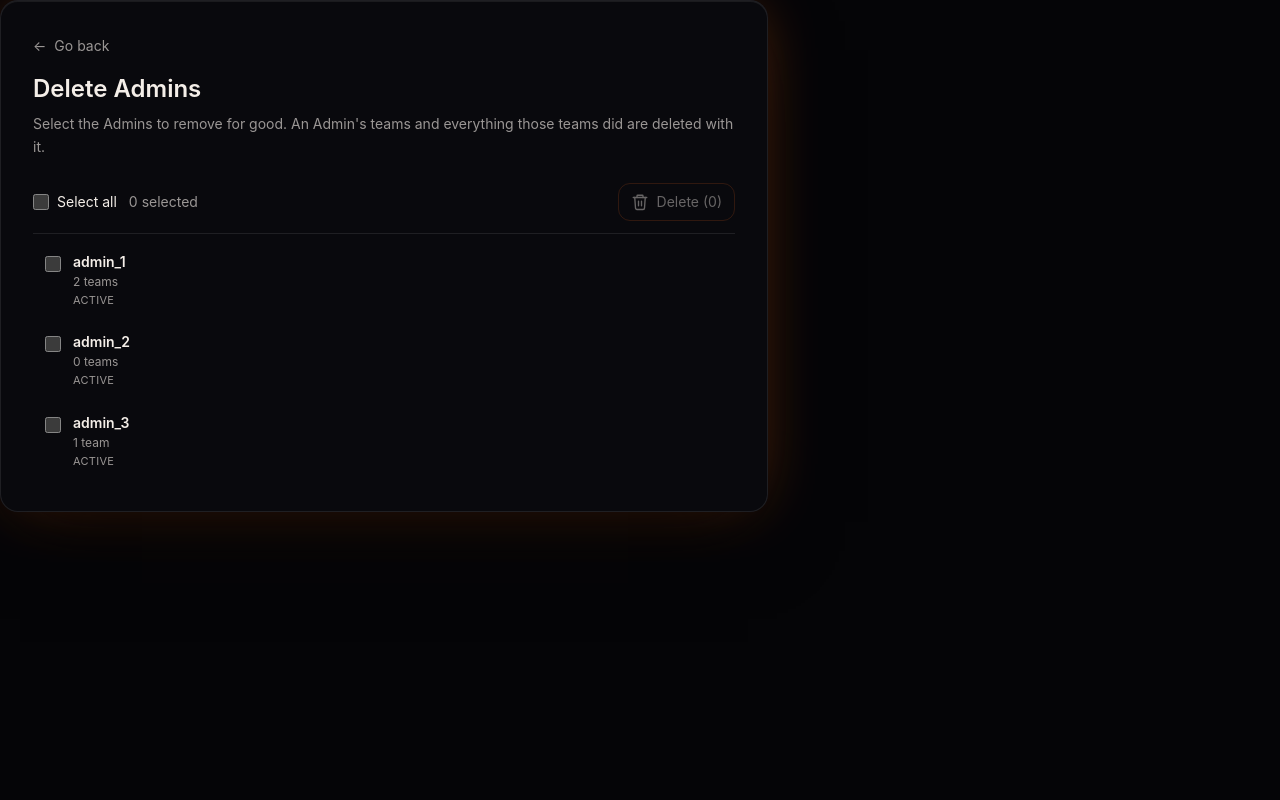
Test: <DeletionScreen kind='admins' /> › Yes sends exactly the selected ids once with an Idempotency-Key, then refreshes the list and clears the selection
Click the checkbox named "Select admin_1" at [53, 264], box 45,256 -> 61,272
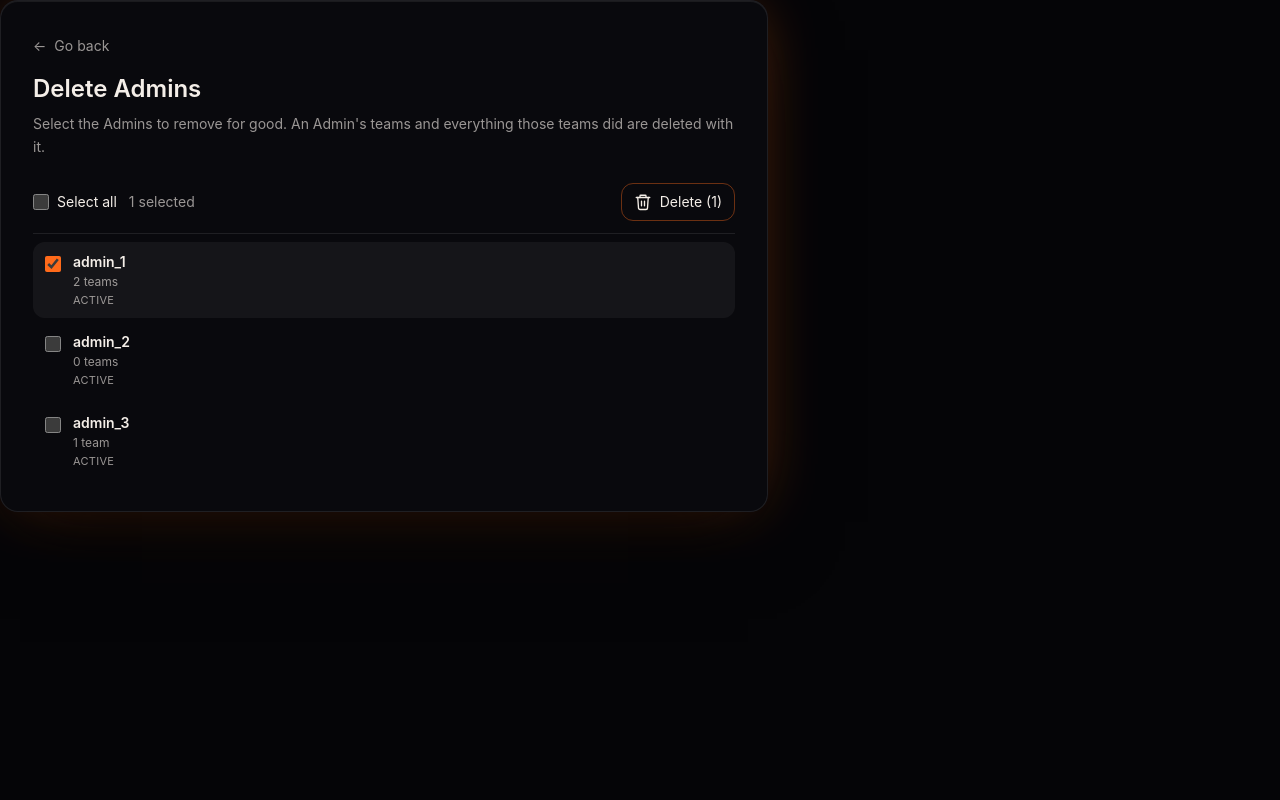
Click the checkbox named "Select admin_3" at [53, 424], box 45,416 -> 61,432
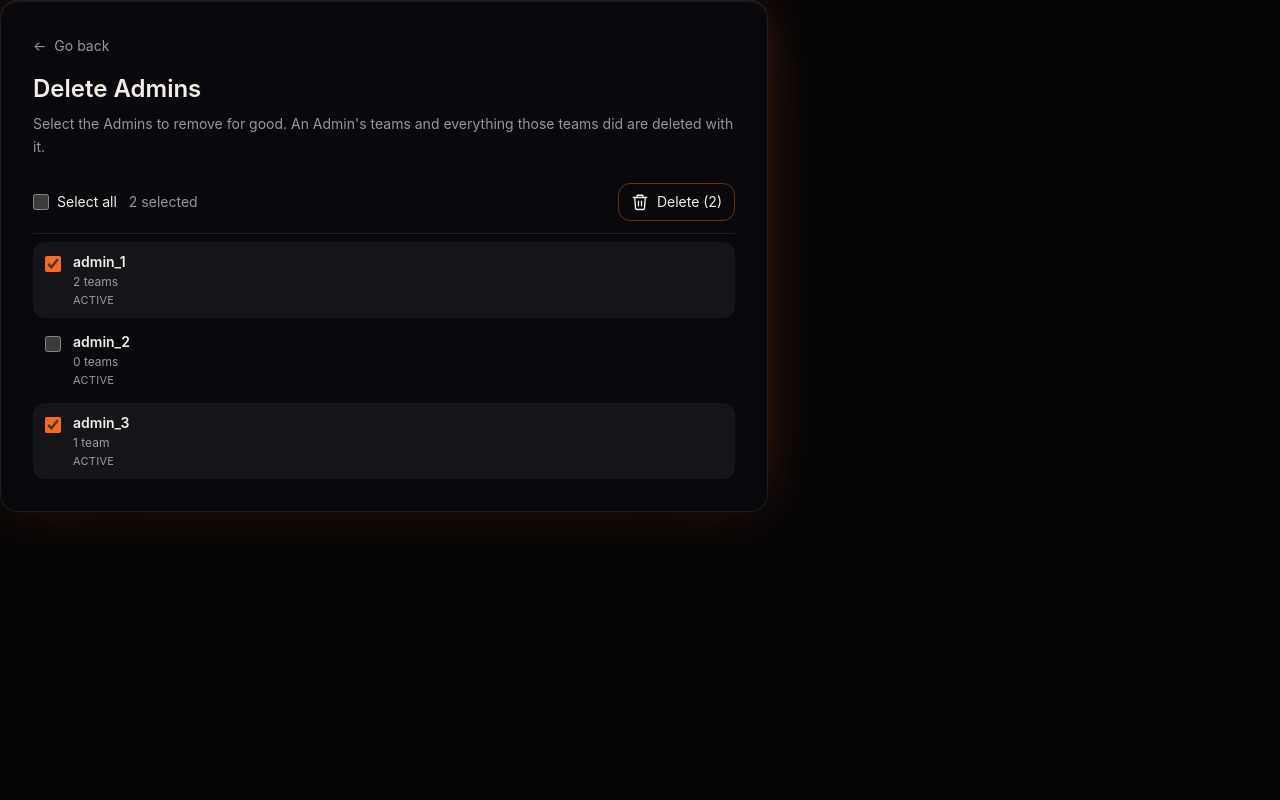
Click the button with aria-label "Delete selected" at [676, 202], box 618,182 -> 735,220
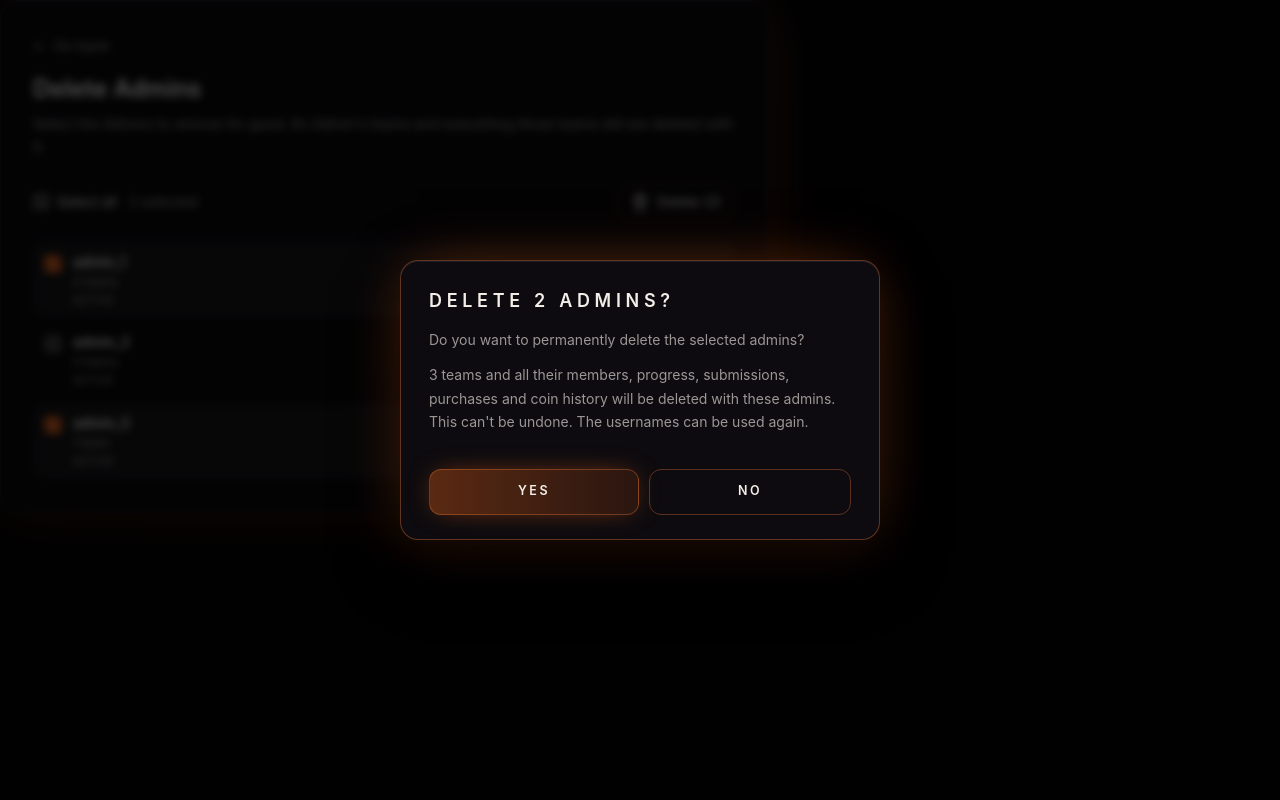
Click the button "Yes" at [534, 492], box 429,469 -> 639,515
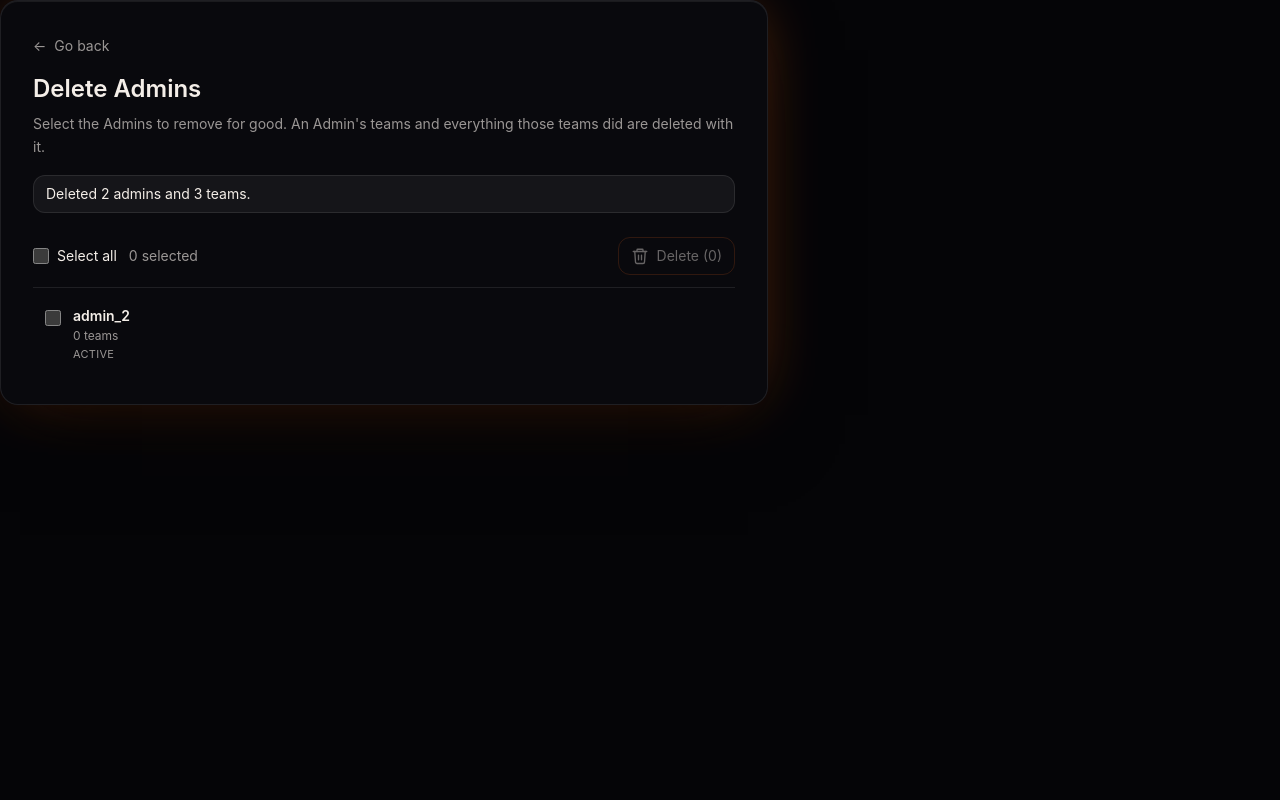
Check: the checkbox named "Select admin_2" is shown, box 45,310 -> 61,326
Check: the text with test id "selected-count" reads "0 selected", box 129,246 -> 198,266
Check: the message reads "Deleted 2 admins and 3 teams.", box 46,184 -> 251,202
